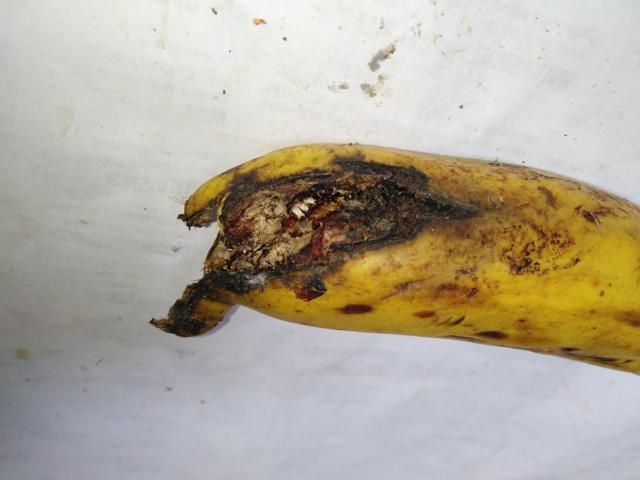rotten: (152, 104, 480, 349)
